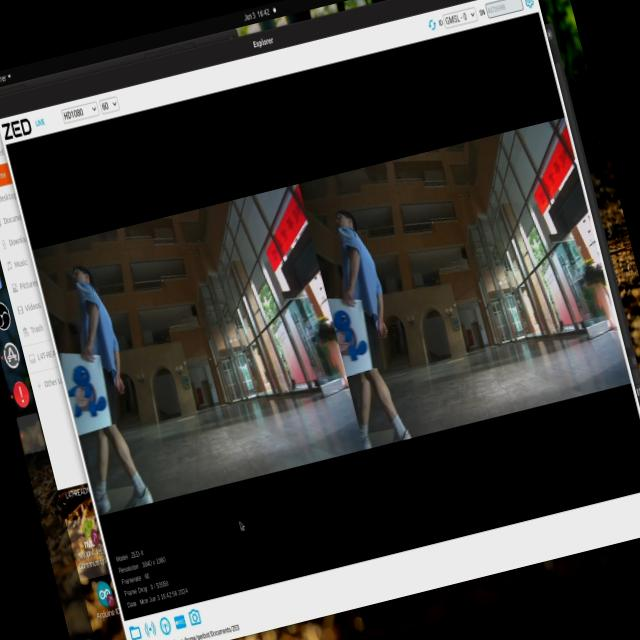blue: (63, 352, 120, 434), (324, 298, 376, 382)
